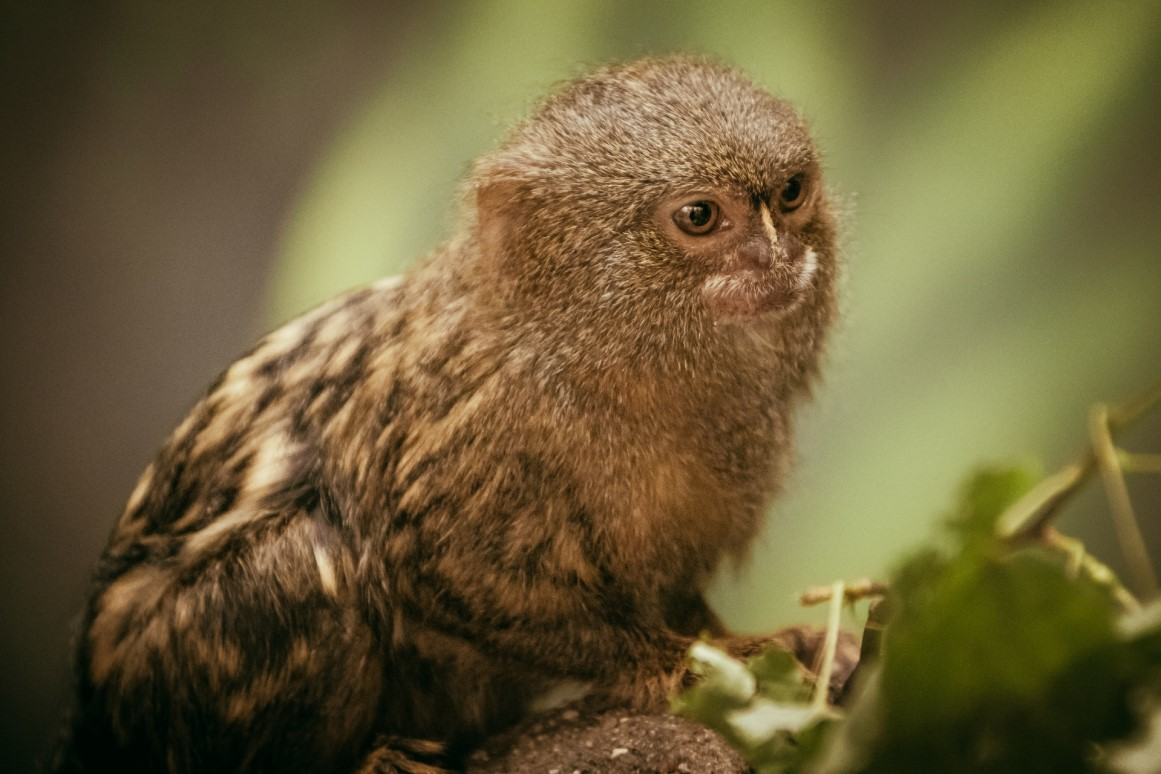PygmyMarmoset: (75, 74, 834, 727)
